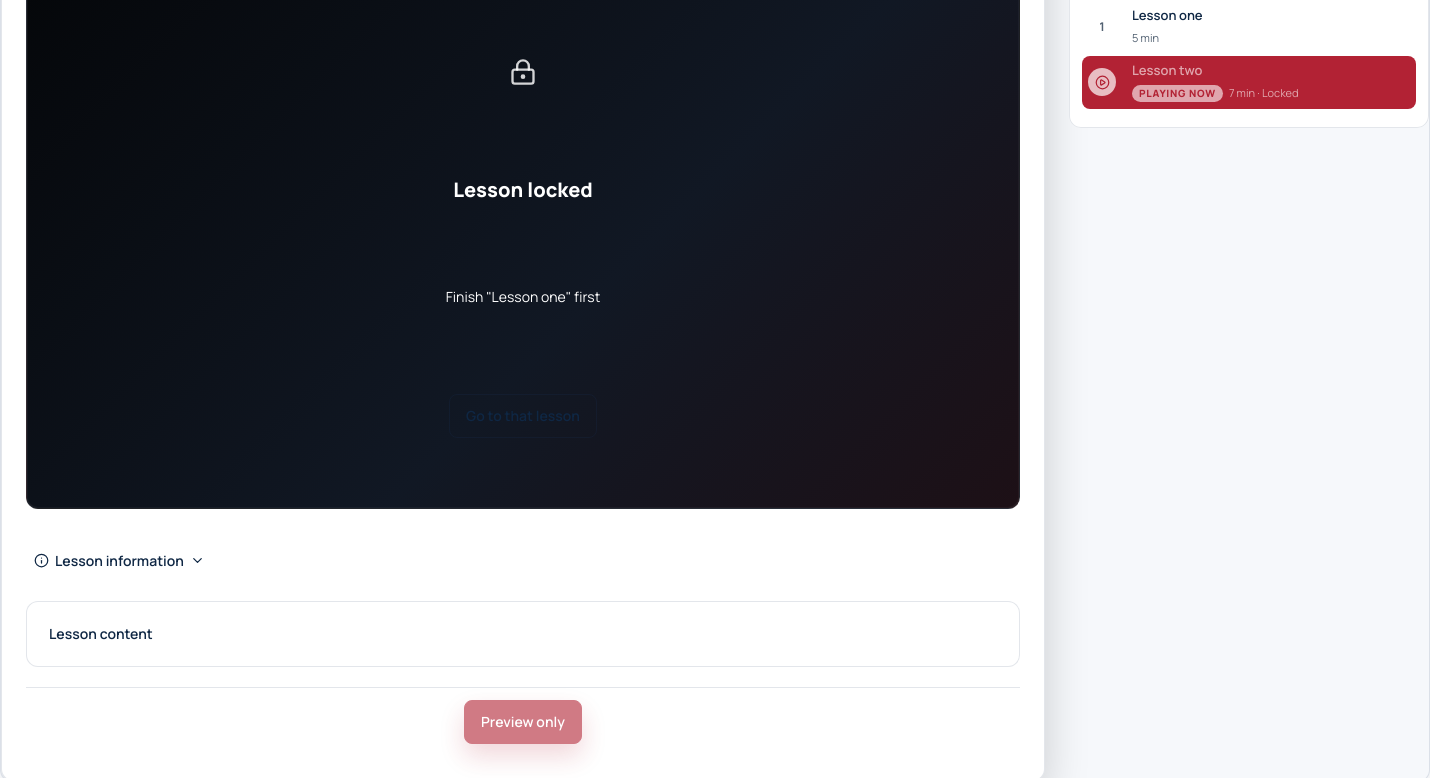
it: a aula trancada diz qual aula terminar › mostra o nome da aula anterior e o botão leva até ela
The width and height of the screenshot is (1440, 778).
(page scrolled)
Expected: the text "Finish \"Lesson one\" first" is shown, [446,285,600,309]
Click the button "Go to that lesson": (523, 416) [449,394,597,438]
(page scrolled)
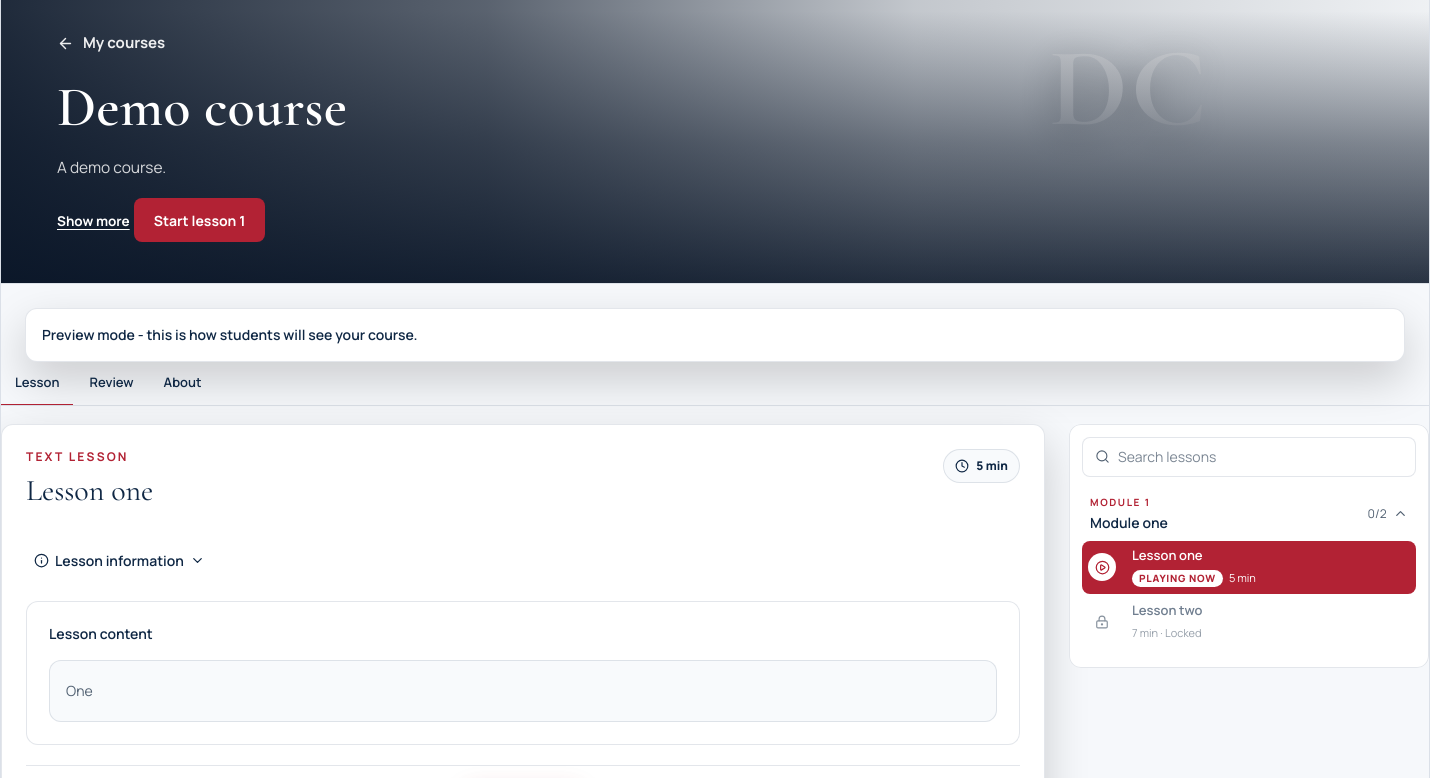
Now the heading "Lesson one" is shown, box [26,473,153,509]
